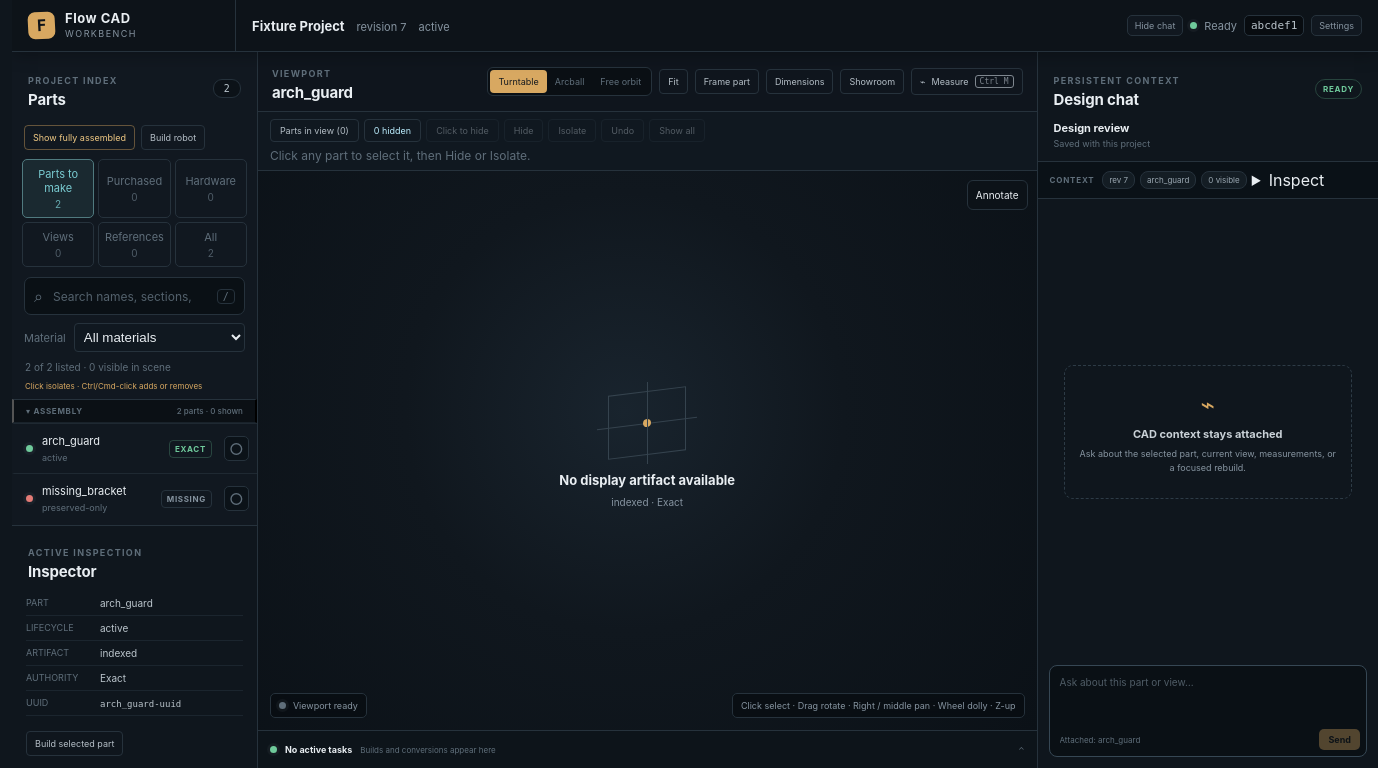
Test case: replacement AppShell › searches keys and aliases while keeping authority and failure states explicit
Type "unitree" into the search field.
click(130, 296); type("unitree")  # box [51, 288, 209, 304]
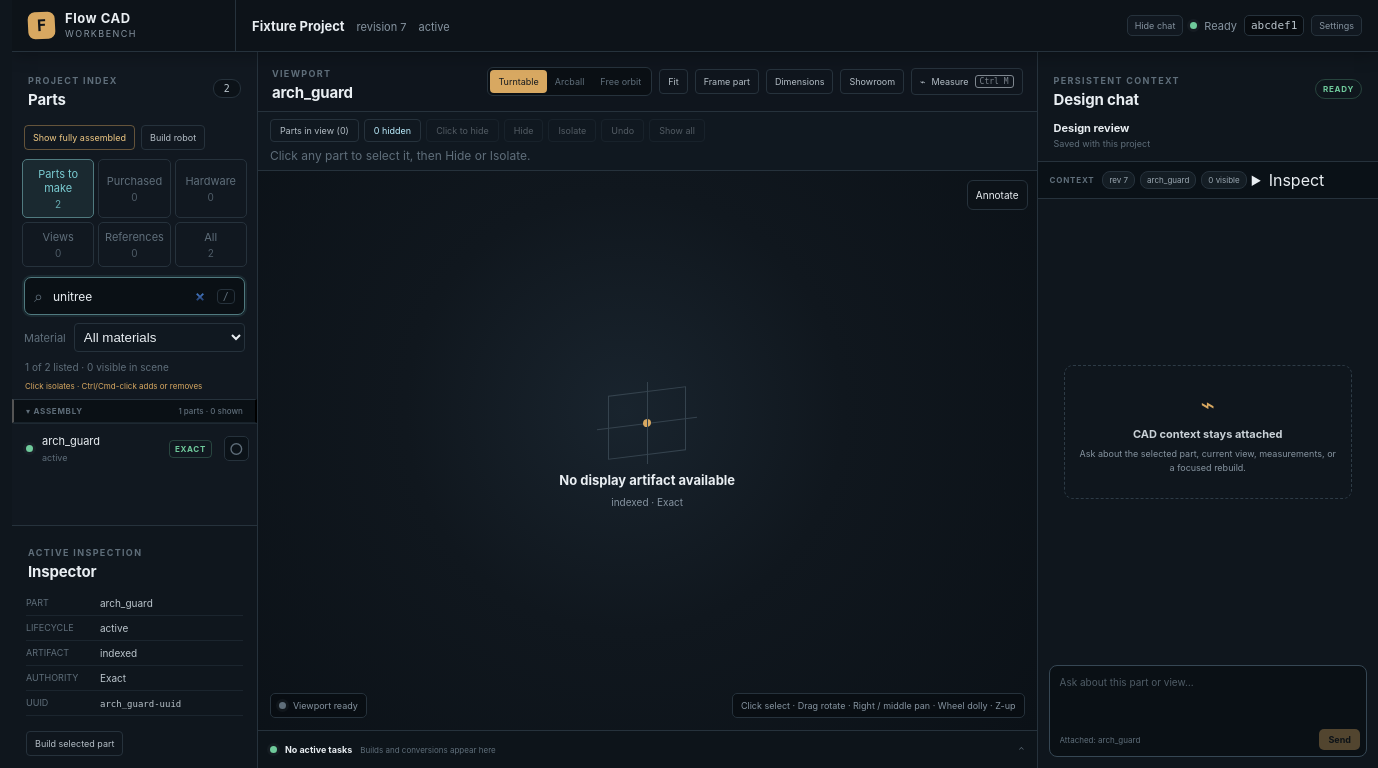
Expected: the 1st text "arch_guard" is shown, [42, 434, 100, 448]
Expected: the option "missing_bracket" is gone
Clear the search field at (130, 296), box [51, 288, 209, 304]
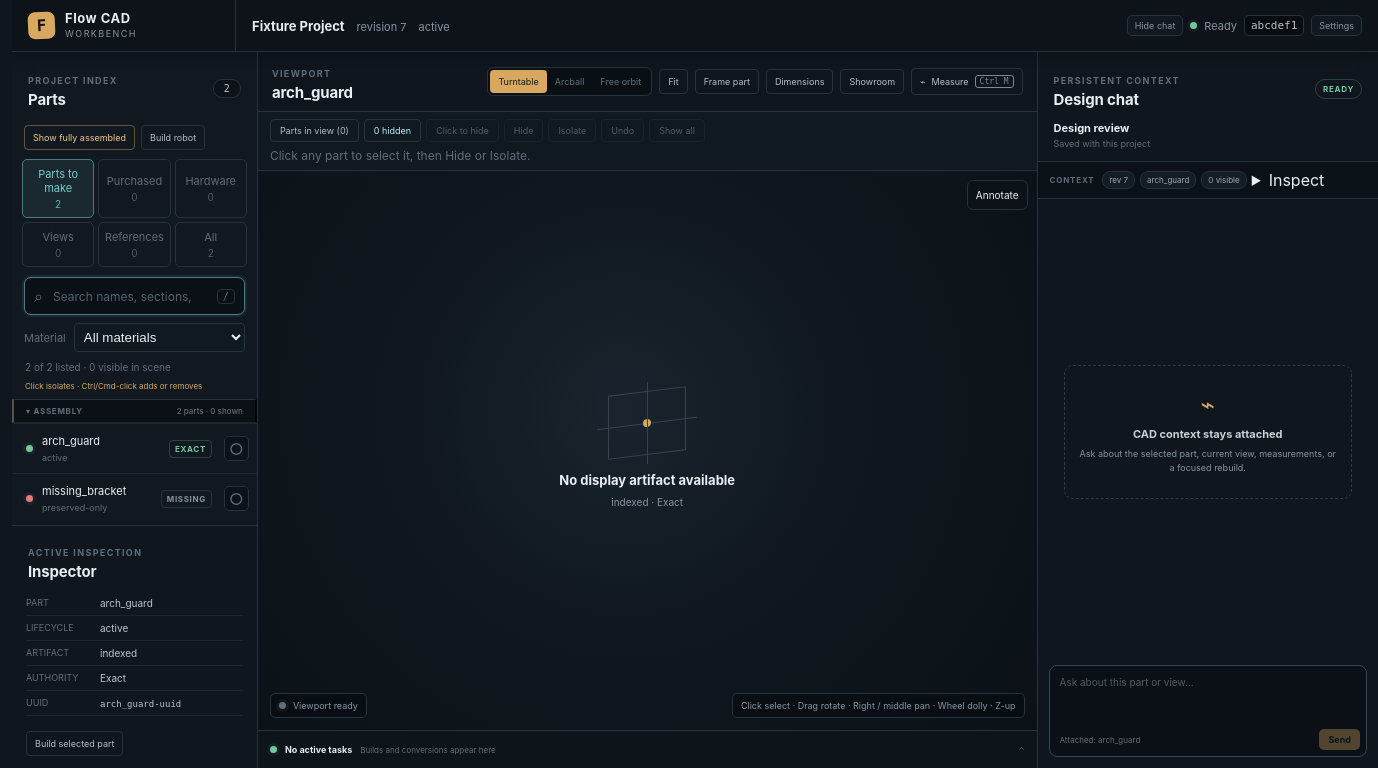
Expected: the text "missing_bracket" is shown, [42, 484, 126, 498]
Expected: the text "Missing" is shown, [161, 490, 212, 508]
